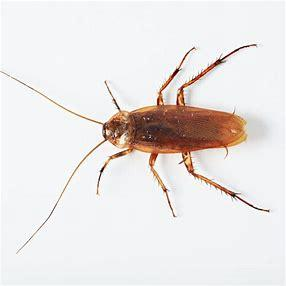cockroach: (0, 43, 275, 241)
